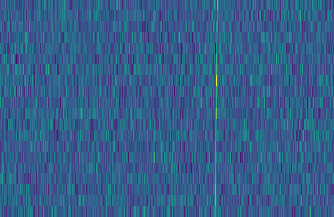signal: (211, 0, 222, 217)
